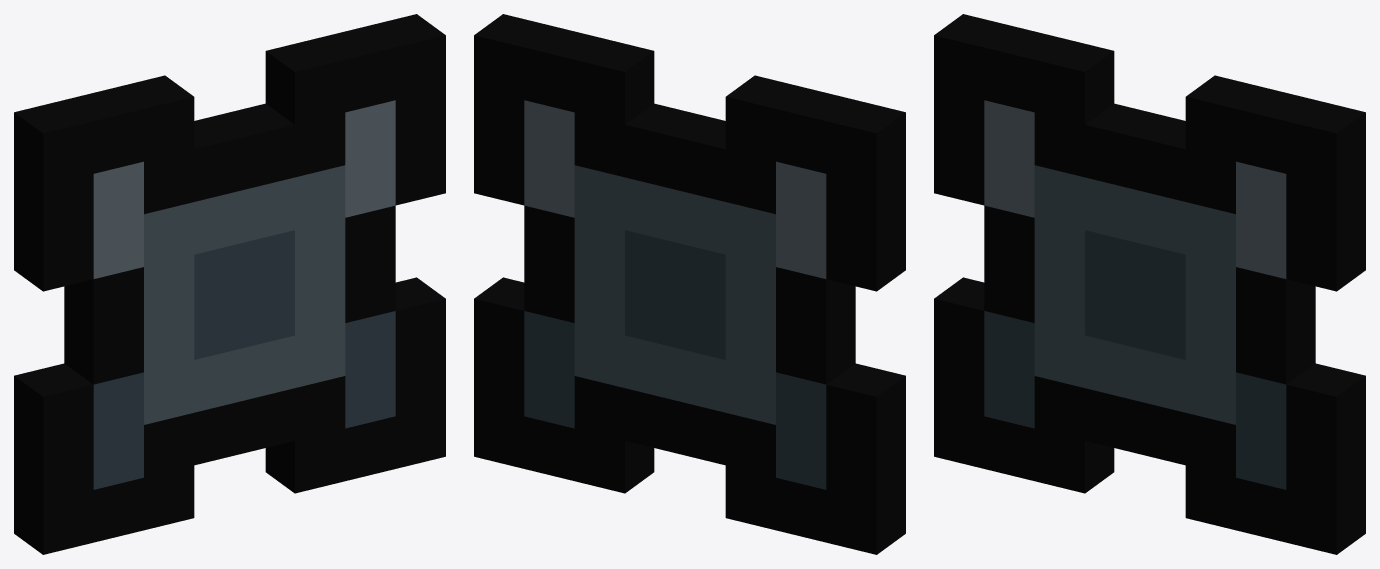
Rendered from Caught Mob Stalker Frost.glb.
3 renders of one model, left to right at view 1: azimuth 30°, elevation 25°; view 2: azimuth 150°, elevation 25°; view 3: azimuth 330°, elevation 25°, orthographic.
Visible parts, largest first — view 1: generated(Clone); view 2: generated(Clone); view 3: generated(Clone).
Boxes of the visible parts, x1,y1,x2,y2 form: generated(Clone): (14,14,445,554); generated(Clone): (474,14,905,554); generated(Clone): (934,14,1365,554).
Size of the model in its own units: 8 by 8 by 1.
Materials: 1 (1 with a texture image).
